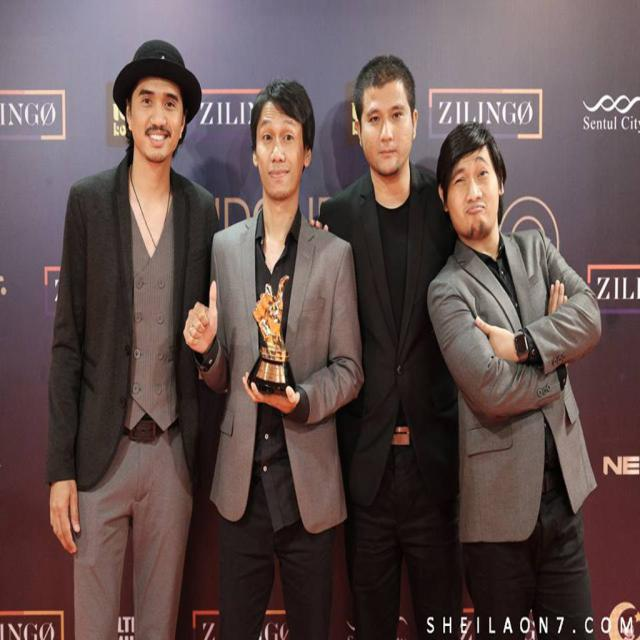sem_oculos: (116, 72, 190, 132), (241, 121, 311, 158), (352, 104, 420, 140), (440, 168, 507, 199)
